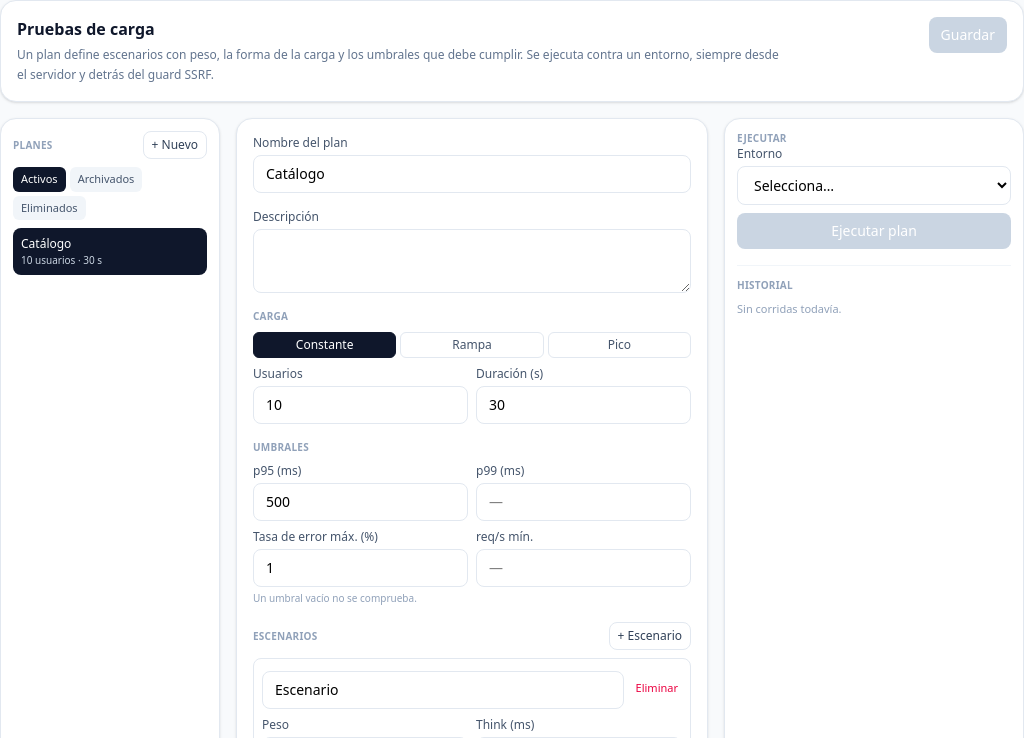
Scenario: los tres filtros de los planes › cada uno pide su lista y dice qué hay cuando está vacía
This screenshot has width=1024, height=738.
Expected: the field labelled "Nombre del plan" holds "Catálogo", [253, 155, 691, 193]
Click the tab "Archivados": [106, 179] box [70, 167, 142, 192]
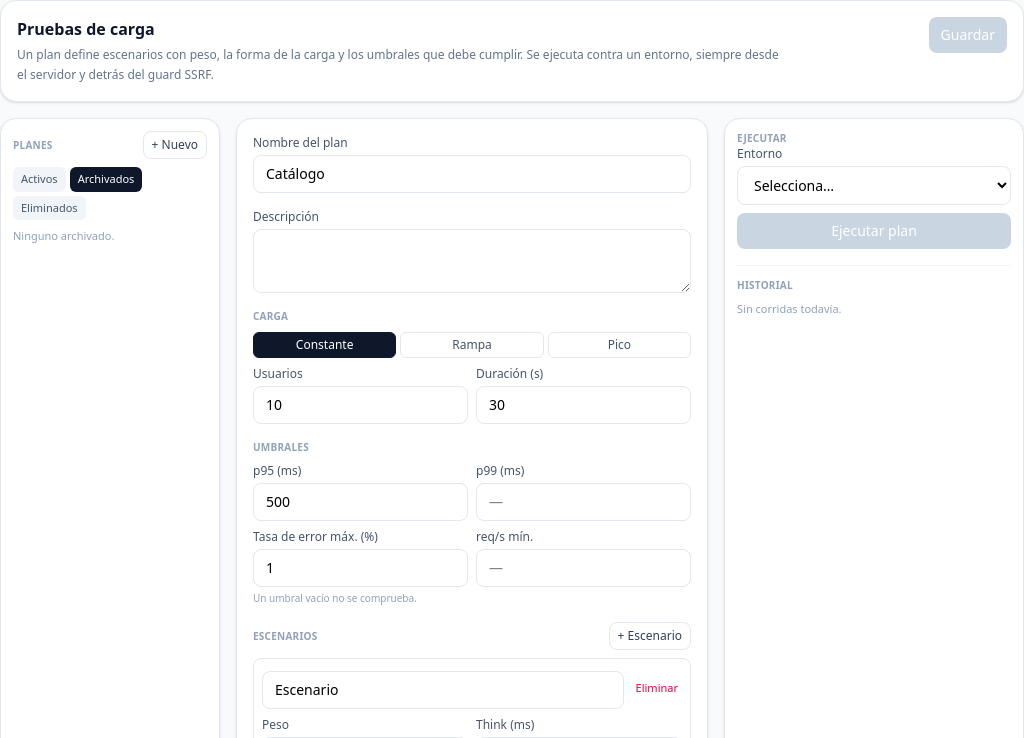
Now the text "Ninguno archivado." is shown, box [13, 228, 114, 243]
Click the tab "Eliminados": [49, 208] box [13, 196, 86, 220]
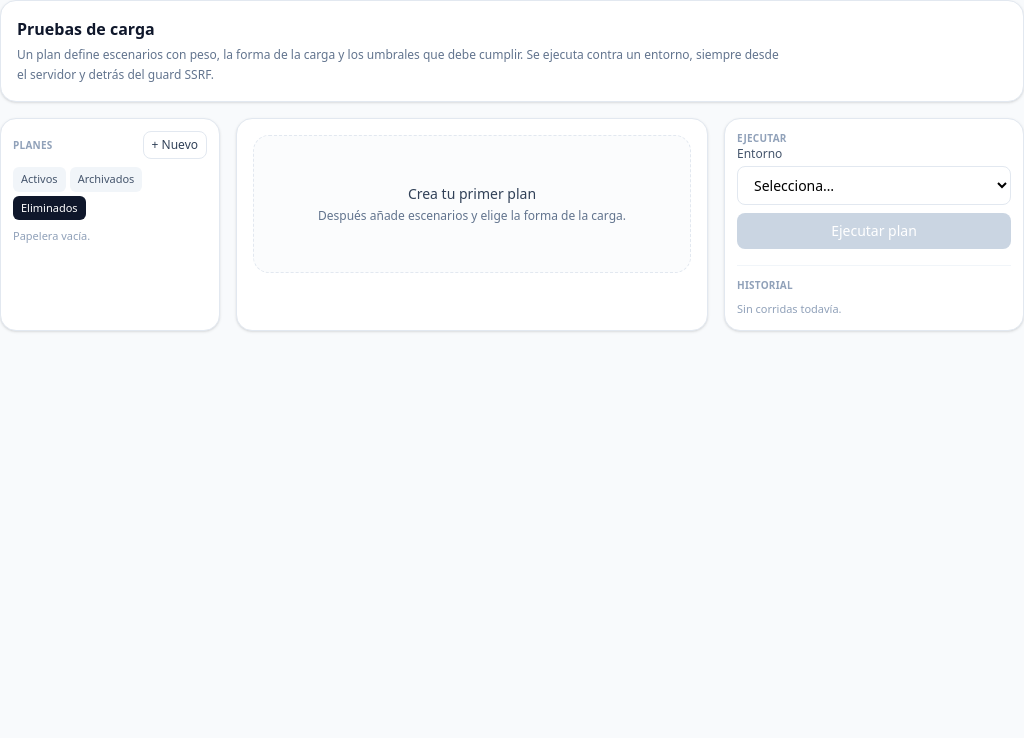
Now the text "Papelera vacía." is shown, box [13, 228, 90, 243]
